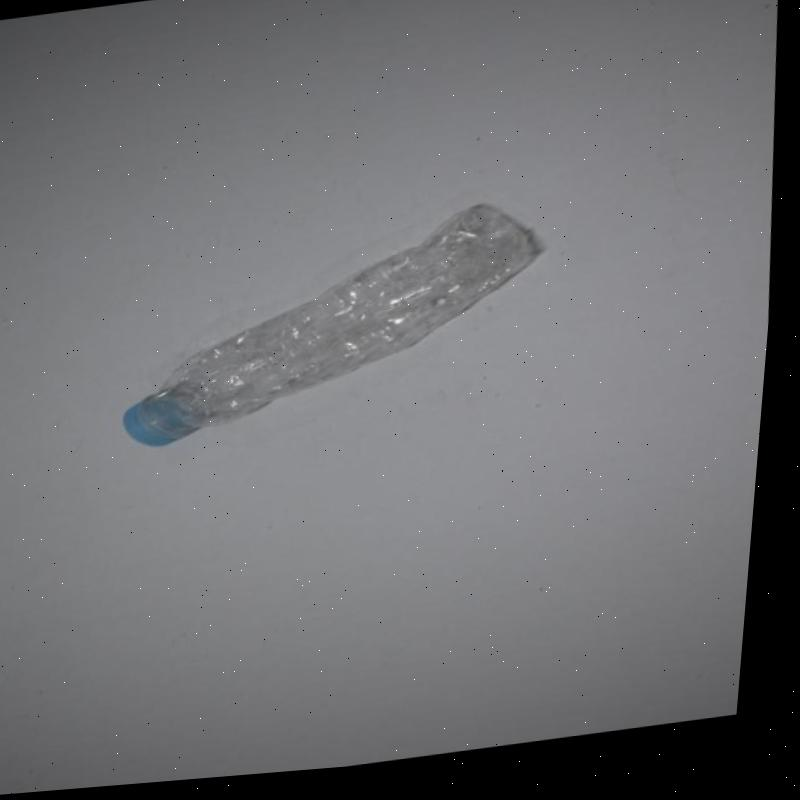botella: (115, 203, 560, 461)
